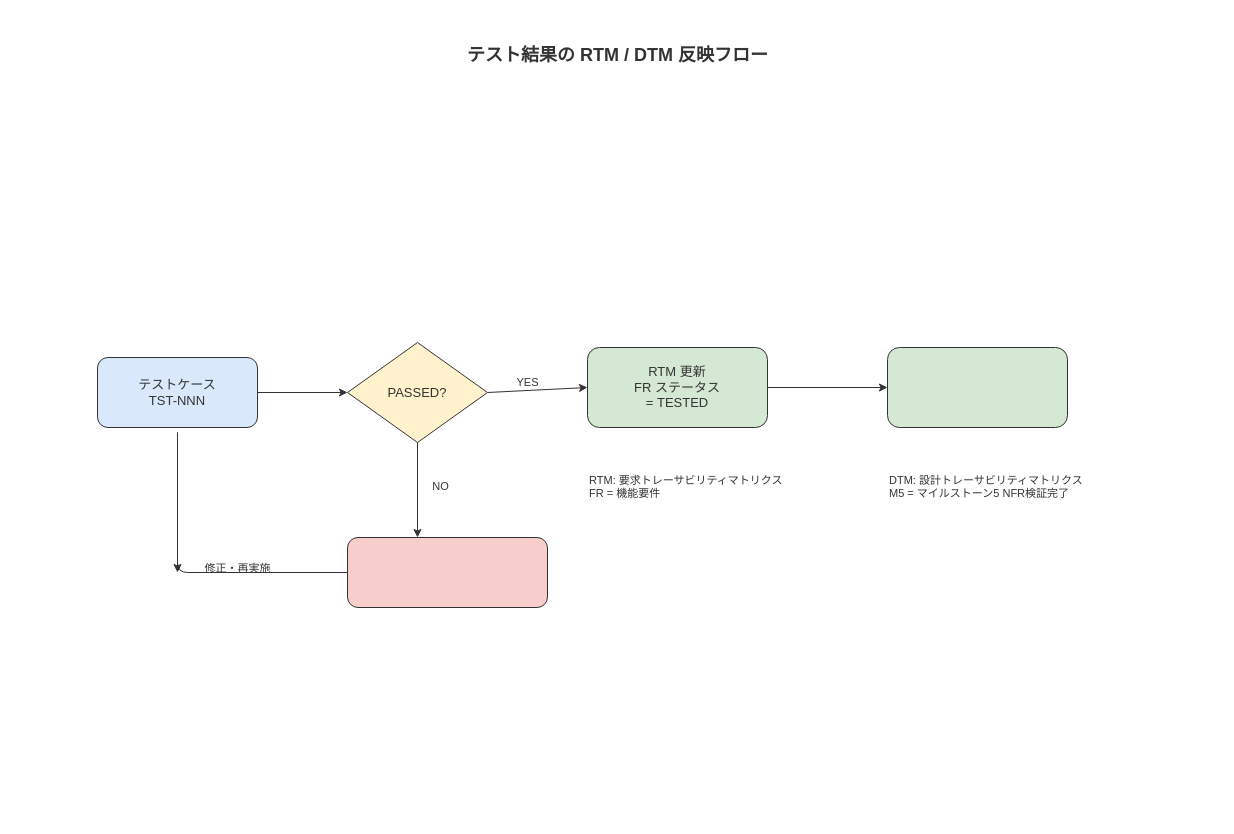
Some shapes in this 1234 by 834 pixel diagram are drawn without their labels. Each missing label, with the centre of its shape:
"DTM 更新 M5 NFR verified ✓" goes at (x=977, y=387).
"バグ登録 (FAILED → 再テスト)" goes at (x=447, y=572).
